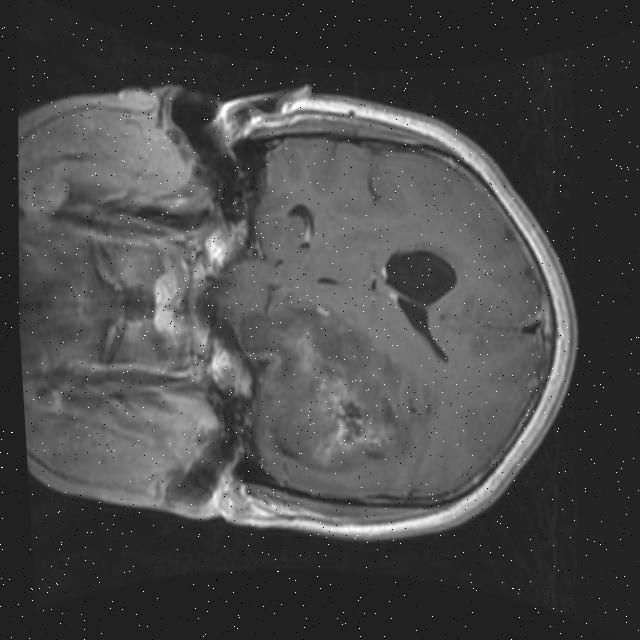Glioma: (258, 301, 429, 480)
